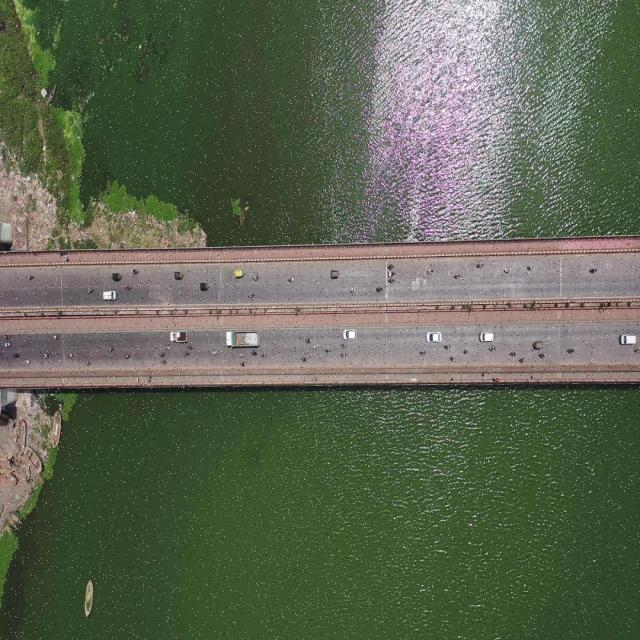3W: (200, 280, 212, 293), (328, 268, 341, 280), (110, 271, 124, 282), (173, 270, 185, 281), (532, 340, 545, 350), (234, 269, 244, 279)
Cars: (425, 328, 444, 344), (618, 332, 637, 346), (102, 290, 118, 303), (344, 327, 357, 341), (301, 352, 310, 365), (339, 350, 348, 359), (304, 337, 312, 346), (286, 275, 295, 283), (340, 341, 348, 350), (314, 342, 321, 351), (324, 347, 331, 356), (387, 263, 396, 270), (376, 285, 383, 292), (387, 278, 396, 283), (349, 288, 356, 294)
LCV: (477, 329, 496, 343)
M2W: (588, 262, 600, 278), (3, 340, 14, 351), (131, 268, 141, 280), (12, 348, 21, 361), (4, 331, 14, 342), (386, 268, 397, 278), (26, 269, 35, 281), (565, 345, 575, 355), (83, 359, 93, 368), (158, 357, 167, 367), (85, 285, 94, 295), (123, 283, 133, 292), (476, 260, 485, 270), (461, 346, 470, 356), (488, 342, 496, 353), (253, 271, 260, 283), (444, 339, 451, 351), (526, 260, 533, 272), (41, 351, 50, 360), (106, 344, 115, 353), (427, 267, 436, 276), (509, 349, 518, 358), (250, 347, 258, 357), (157, 350, 166, 358), (453, 273, 461, 282), (418, 349, 427, 357), (518, 356, 527, 364), (52, 332, 59, 342), (69, 351, 76, 361), (25, 358, 32, 367), (124, 351, 131, 360), (450, 354, 457, 363), (503, 266, 510, 275), (165, 344, 172, 352), (182, 350, 189, 358), (539, 352, 547, 359), (239, 353, 248, 359), (239, 362, 248, 368), (212, 349, 219, 356), (260, 352, 267, 359), (248, 294, 256, 300), (187, 345, 194, 350)
Truck: (226, 326, 260, 347), (167, 330, 187, 342)
